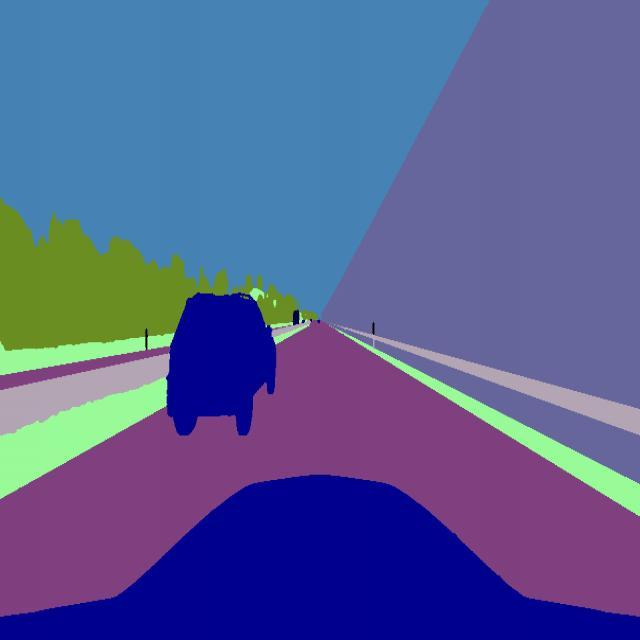unsafe: (166, 290, 279, 442)
